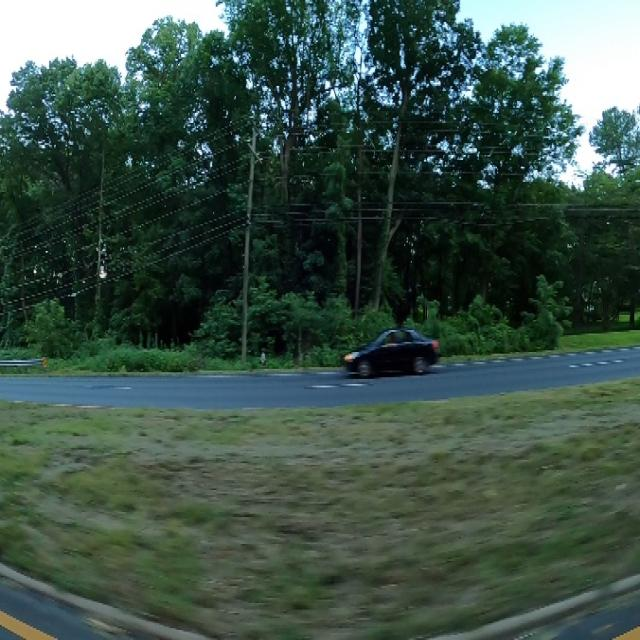car: (342, 322, 442, 379)
